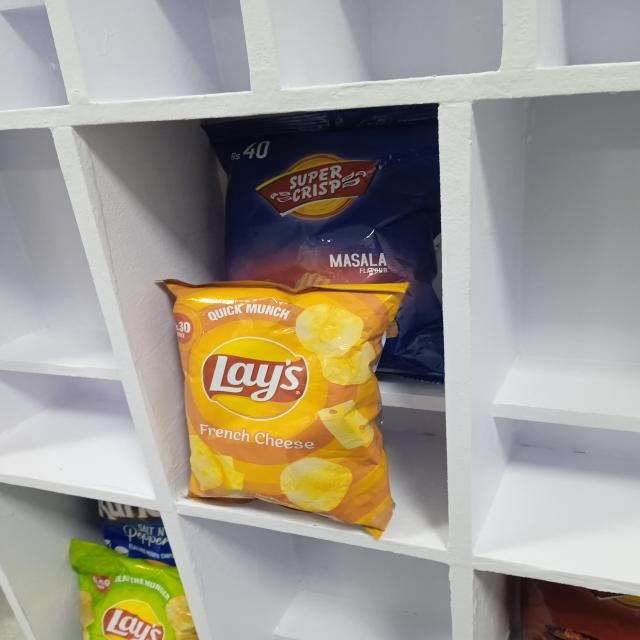Plastic: (176, 291, 394, 514), (201, 123, 427, 282), (74, 555, 178, 640), (92, 500, 166, 546)
